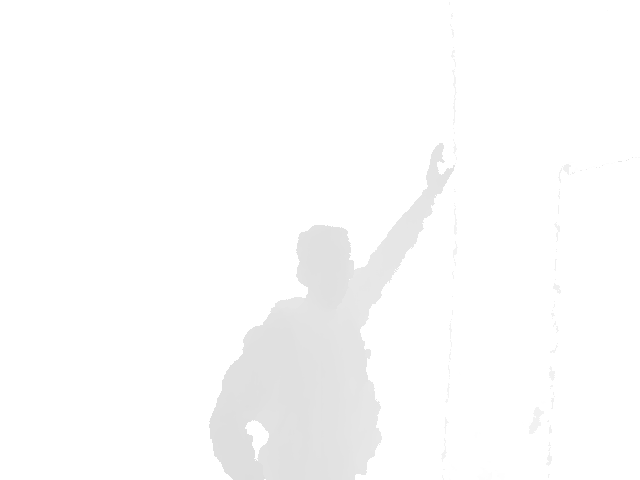hand: (424, 140, 456, 195)
head: (296, 225, 356, 307)
person: (207, 140, 456, 480)
